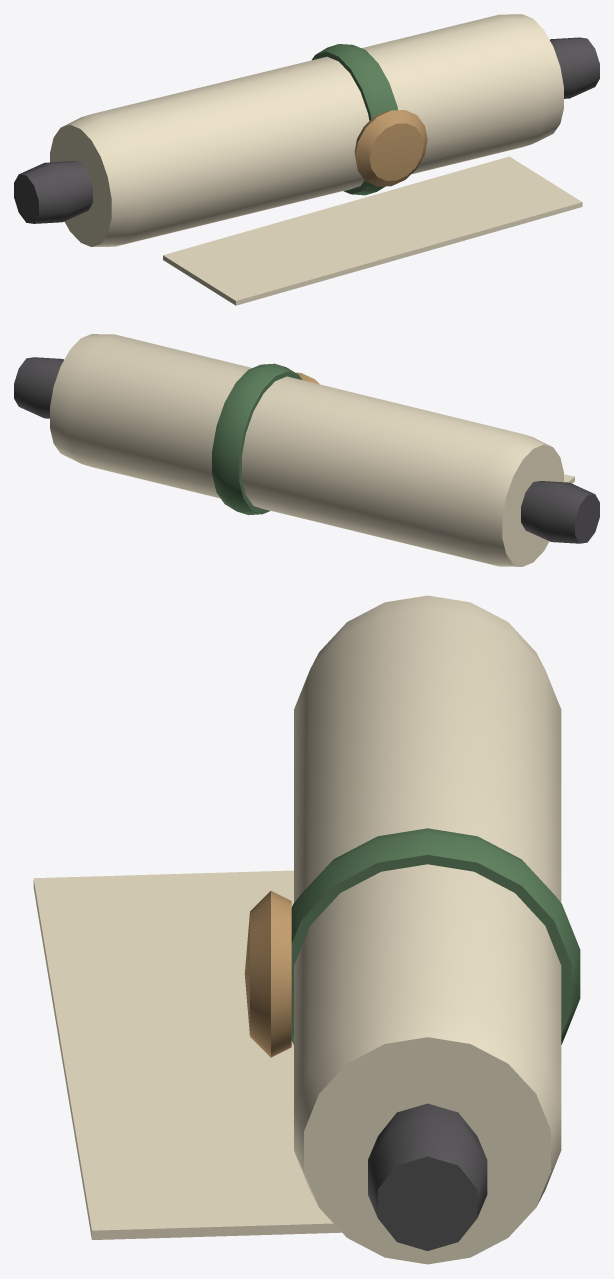
Rendered from recipe_champion_armor.glb.
3 renders of one model, top to bottom at view 1: azimuth 30°, elevation 25°; view 2: azimuth 150°, elevation 25°; view 3: azimuth 270°, elevation 25°, orthographic. The views are drawn at different scales.
Parts seen in each view (by area): view 1: recipe_champion_armor; view 2: recipe_champion_armor; view 3: recipe_champion_armor.
Part boxes in pixels (x1,y1,x2,y2): recipe_champion_armor: (14, 14, 599, 305); recipe_champion_armor: (14, 334, 599, 566); recipe_champion_armor: (33, 595, 580, 1264).
Size of the model in its own units: 0.248 by 0.0594 by 0.1046.
